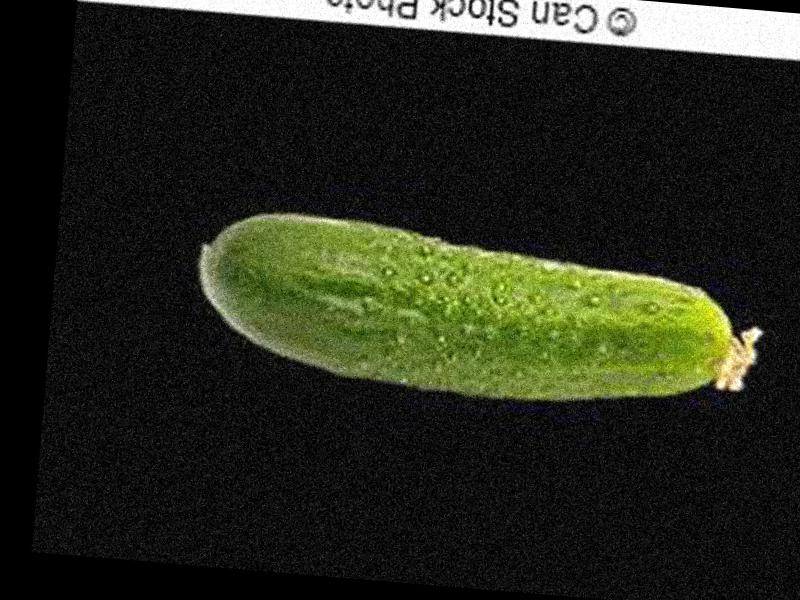Cucumber: (189, 208, 769, 420)
